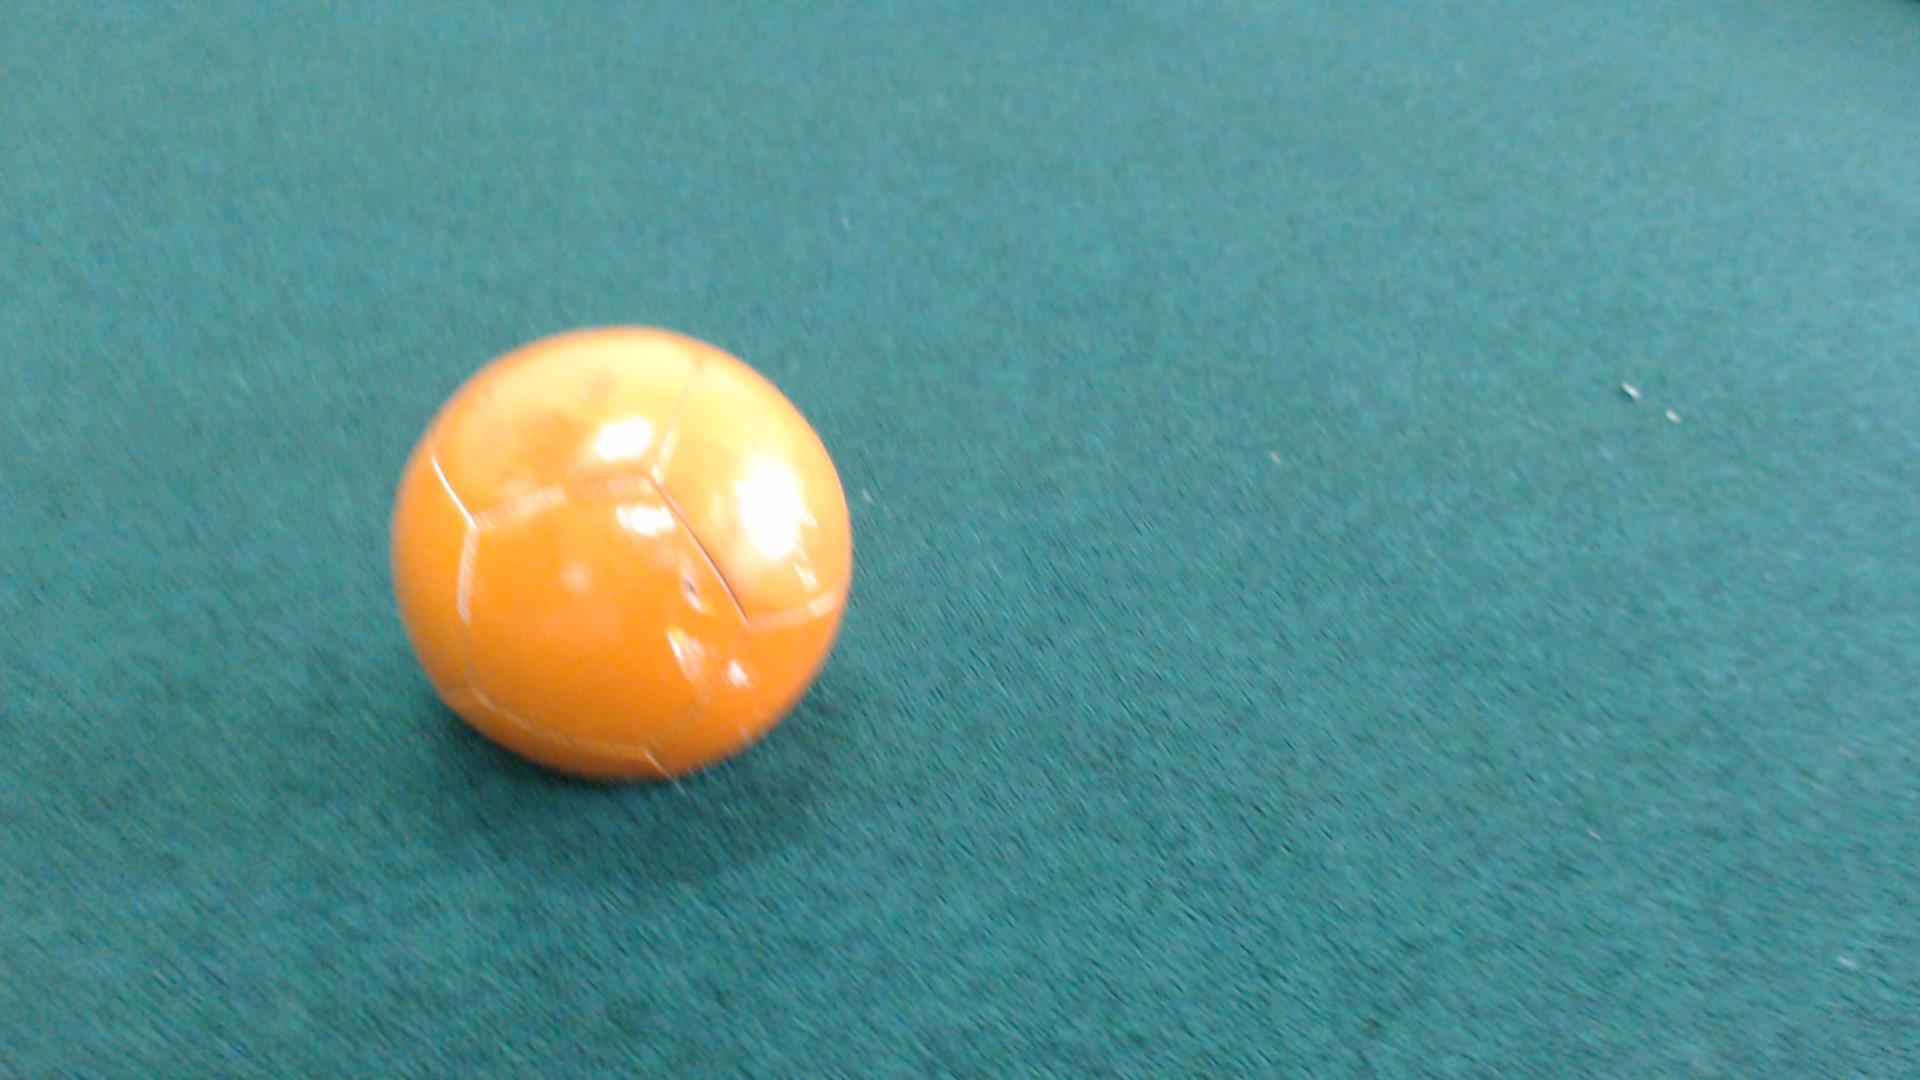bola: (320, 302, 932, 793)
